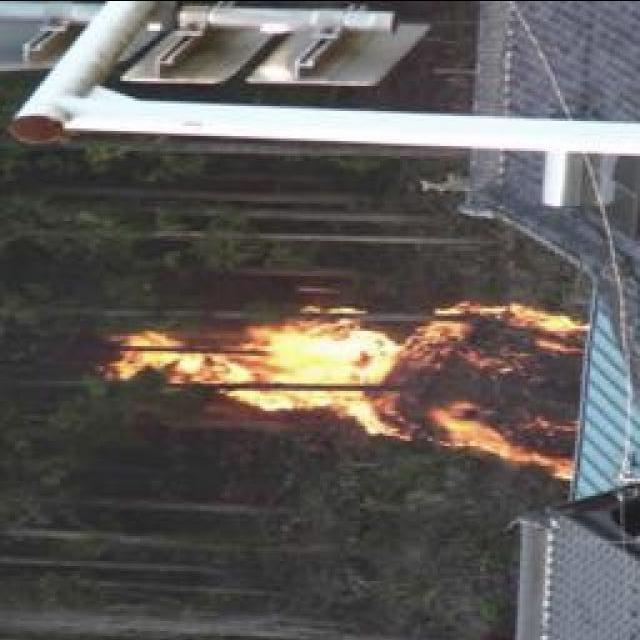Fire: (106, 299, 582, 472)
